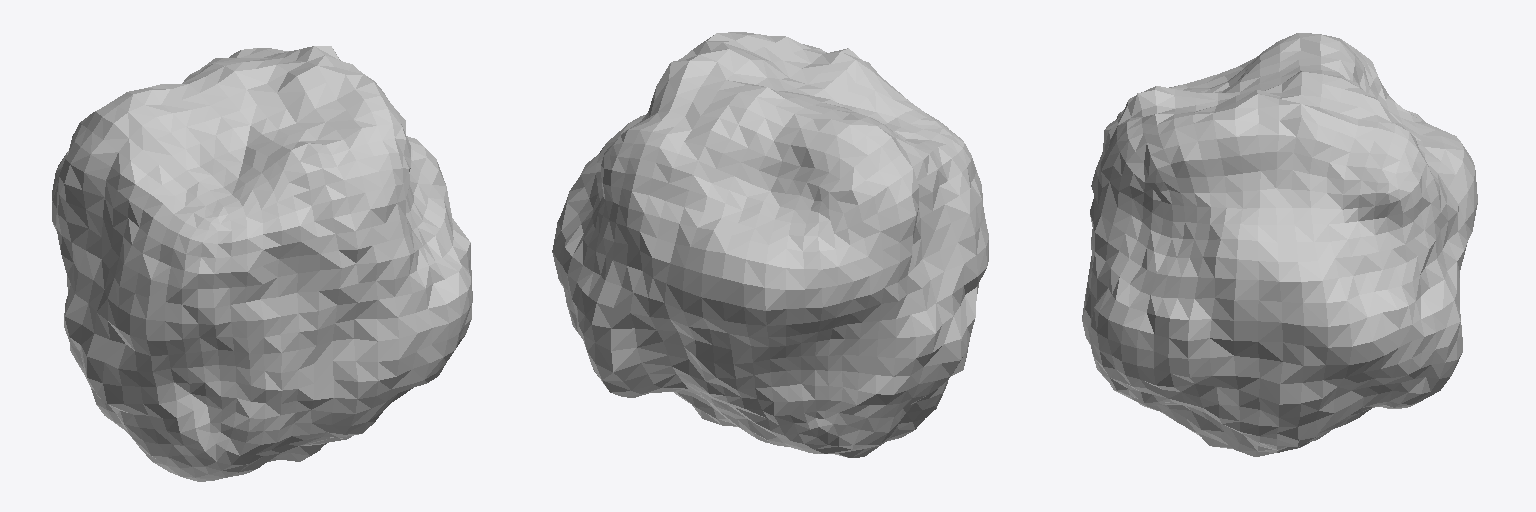
Rendered from Stone.obj.
3 views of the same model, side by side, from view 1: azimuth 30°, elevation 25°; view 2: azimuth 150°, elevation 25°; view 3: azimuth 270°, elevation 25° (orthographic).
Visible parts, largest first — view 1: Stone_Forest_1:Stone_F_1; view 2: Stone_Forest_1:Stone_F_1; view 3: Stone_Forest_1:Stone_F_1.
Part boxes in pixels (x1,y1,x2,y2): Stone_Forest_1:Stone_F_1: (52, 46, 472, 481); Stone_Forest_1:Stone_F_1: (552, 32, 988, 457); Stone_Forest_1:Stone_F_1: (1082, 33, 1477, 456).
Bounding box in the file's own units: 12.49 × 12.26 × 11.8.